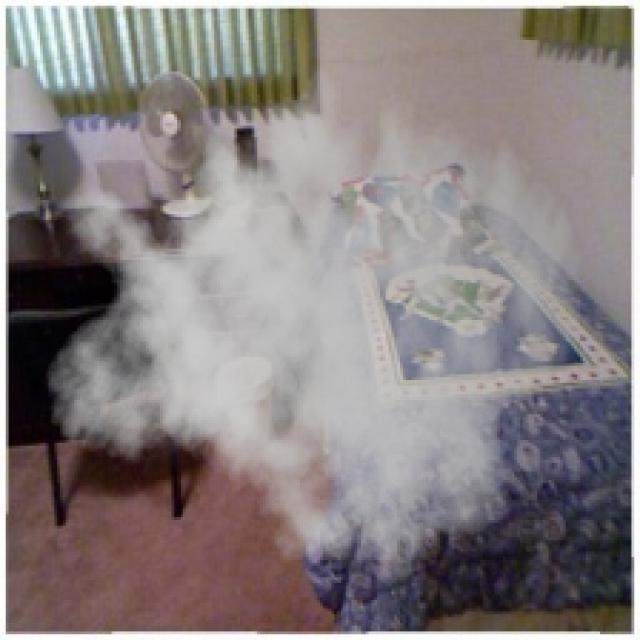Smoke: (43, 37, 583, 597)
